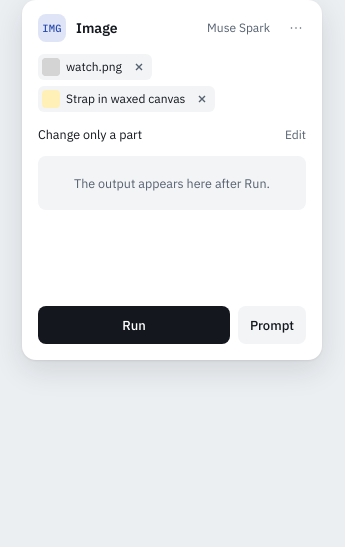
Test: NodeCard › the settings line opens the param fields; x-show-if hides part for the whole image
The width and height of the screenshot is (345, 547).
Click the button "Change only a part Edit": (90, 134) [32,120,312,148]
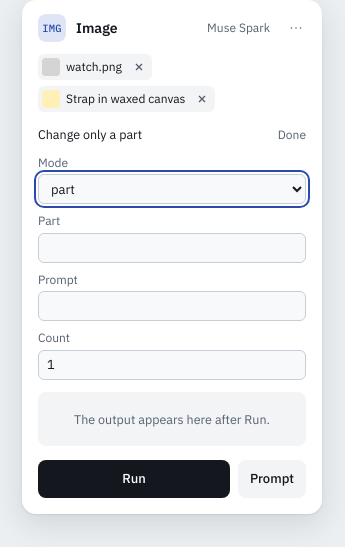
expect the field labelled "Part" is shown: met, box [38,233,306,263]
Select "whole" in the dropdown labelled "Mode": (172, 189) [38,174,306,204]
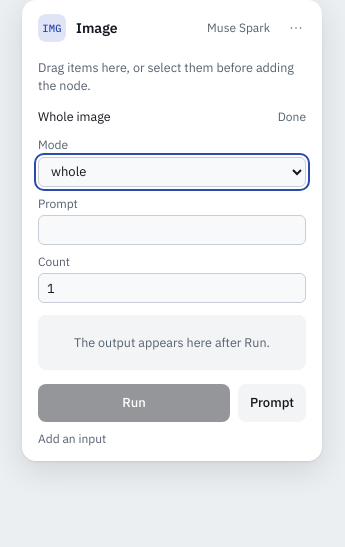
expect the button labelled "part" is gone: met
